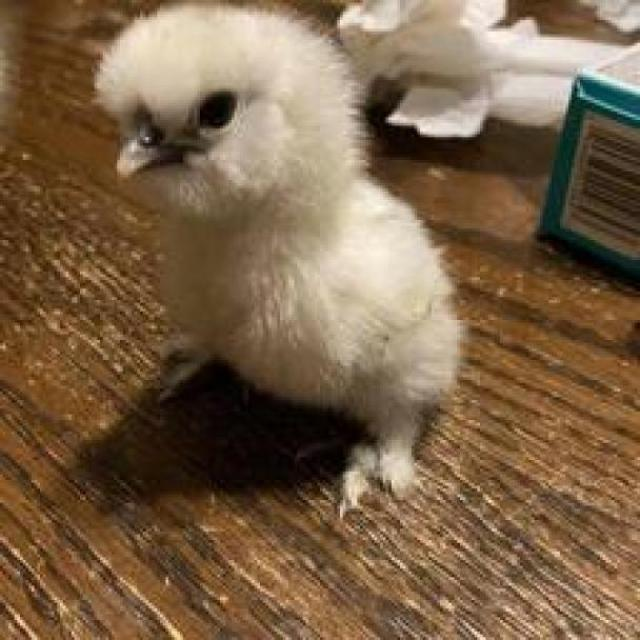Chicken: (85, 1, 521, 527)
